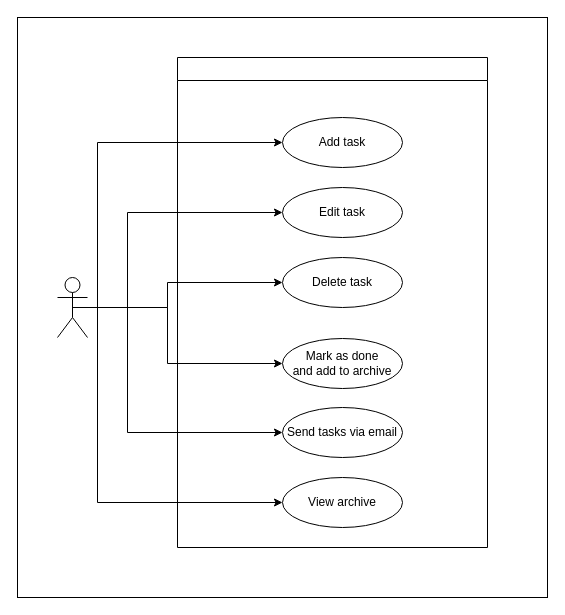
Some shapes in this 565 by 615 pixel diagram are drawn without their labels. The box of each missing label's shape, as (x1, y1, x2, y2) in pixels:
To Do list app: (176, 56, 488, 548)
User: (56, 276, 88, 338)
